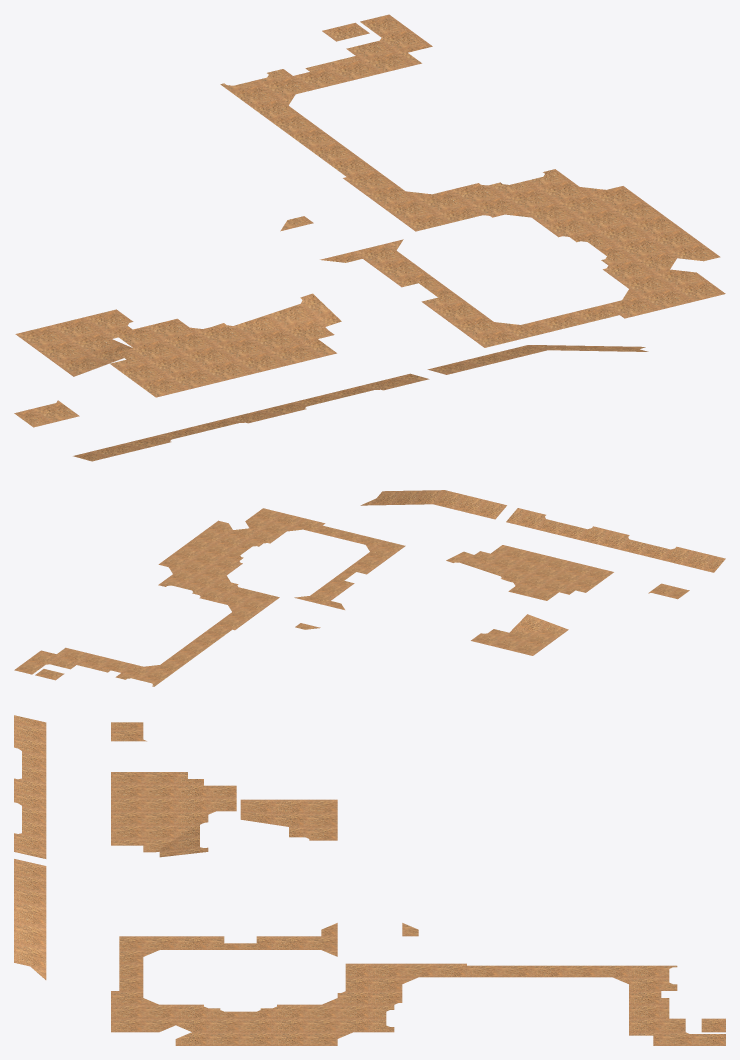
3 renders of one model, top to bottom at view 1: azimuth 30°, elevation 25°; view 2: azimuth 150°, elevation 25°; view 3: azimuth 270°, elevation 25°, orthographic. The views are drawn at different scales.
Visible parts, largest first — view 1: Object_14; view 2: Object_14; view 3: Object_14.
Boxes of the visible parts, x1,y1,x2,y2 form: Object_14: (14, 14, 725, 461); Object_14: (14, 490, 725, 686); Object_14: (14, 715, 725, 1045).
Bounding box in the file's own units: 36.69 × 2.13 × 37.55.
Materials: 1 (1 with a texture image).
